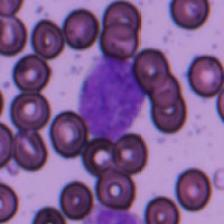B: (77, 54, 143, 142)
